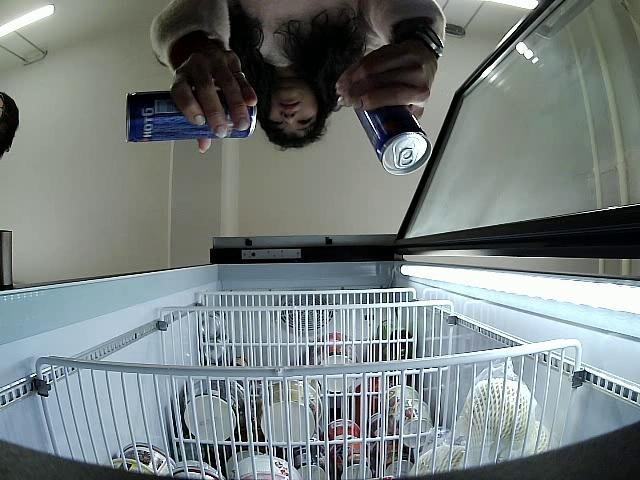16_hot6: (122, 90, 258, 141), (352, 110, 432, 176)
